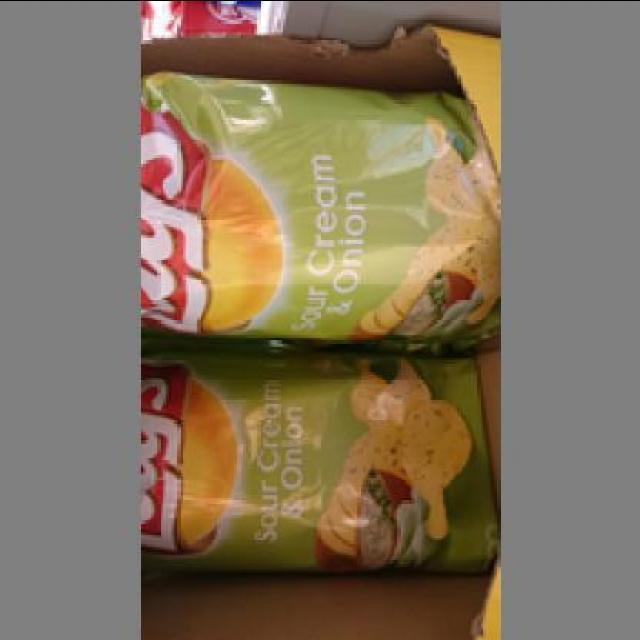Chips: (140, 70, 491, 348), (140, 354, 494, 580)
